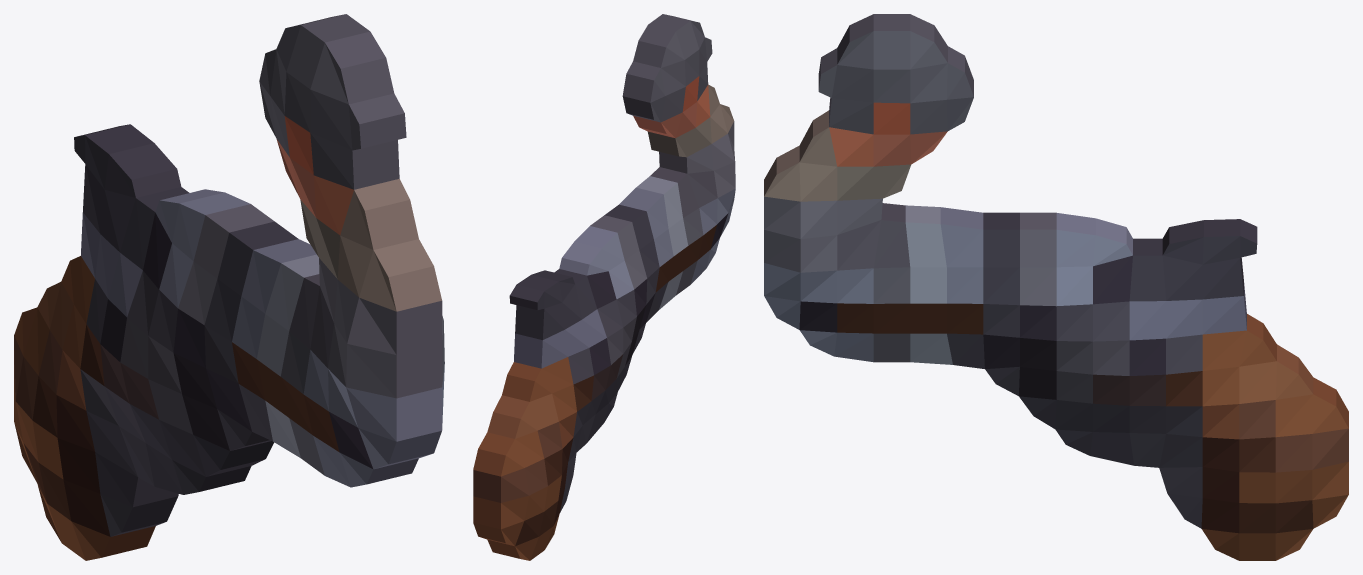
Rendered from flare_gun_pixel.glb.
3 renders of one model, left to right at view 1: azimuth 30°, elevation 25°; view 2: azimuth 150°, elevation 25°; view 3: azimuth 270°, elevation 25°, orthographic. The views are drawn at different scales.
Visible parts, largest first — view 1: flare_gun; view 2: flare_gun; view 3: flare_gun.
Part boxes in pixels (bbox=[...]): flare_gun: bbox=[14, 14, 444, 560]; flare_gun: bbox=[473, 14, 735, 560]; flare_gun: bbox=[764, 14, 1348, 560].
Bounding box in the file's own units: 0.0453 × 0.25 × 0.25.
Materials: 1 (1 with a texture image).
